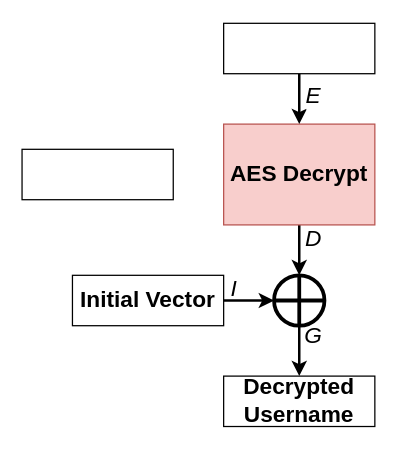
Image size: 397x450. Some labels were removed from this diagram. Here are the shapes that lost their labels. From the top down, the centre of each, then its label:
At [298,48]: "Encrypted Username".
At [97,174]: "Secret Key".
